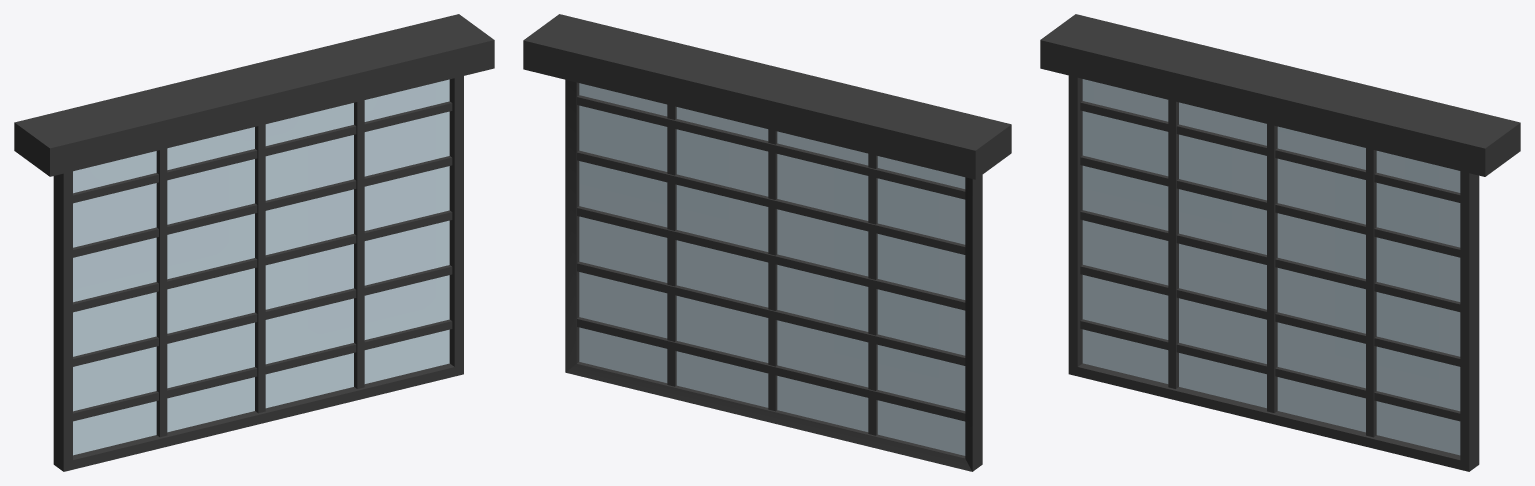
Rendered from window_024.glb.
3 renders of one model, left to right at view 1: azimuth 30°, elevation 25°; view 2: azimuth 150°, elevation 25°; view 3: azimuth 330°, elevation 25°, orthographic.
Parts seen in each view (by area): view 1: window_024; view 2: window_024; view 3: window_024.
Part boxes in pixels (x1=…): window_024: x1=14, y1=14, x2=494, y2=471; window_024: x1=523, y1=14, x2=1011, y2=471; window_024: x1=1040, y1=14, x2=1520, y2=471.
Bounding box in the file's own units: 3.43 × 2.46 × 0.4745.
Materials: 1 (1 with a texture image).
